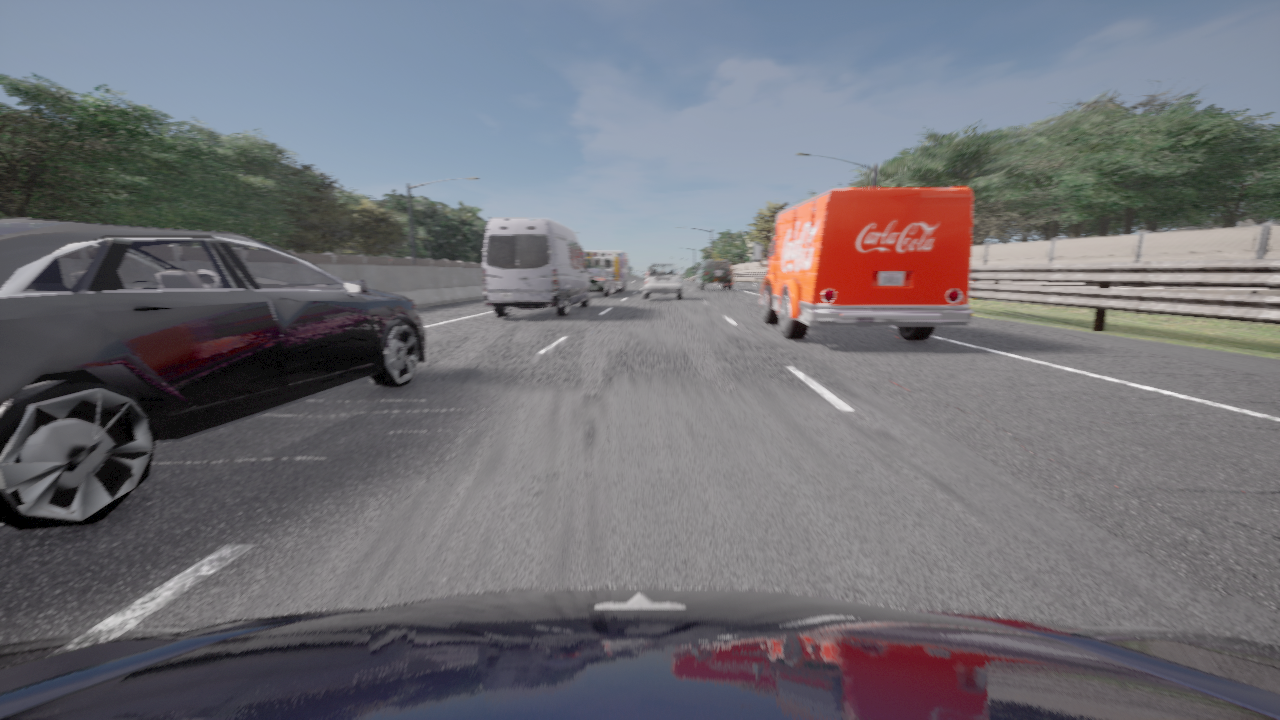cyclist: (0, 588, 1279, 719), (0, 218, 424, 530), (753, 188, 972, 340), (482, 218, 591, 317), (583, 251, 631, 292), (643, 263, 682, 300), (696, 260, 732, 290), (587, 266, 617, 297)
